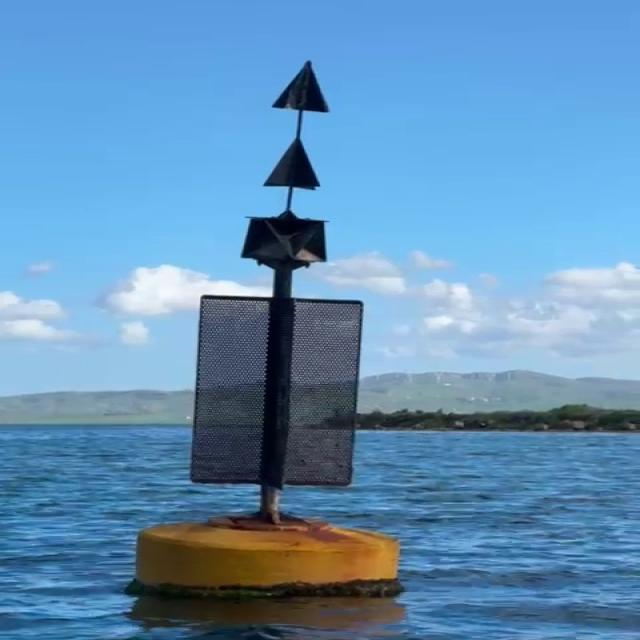marque: (135, 64, 405, 600)
